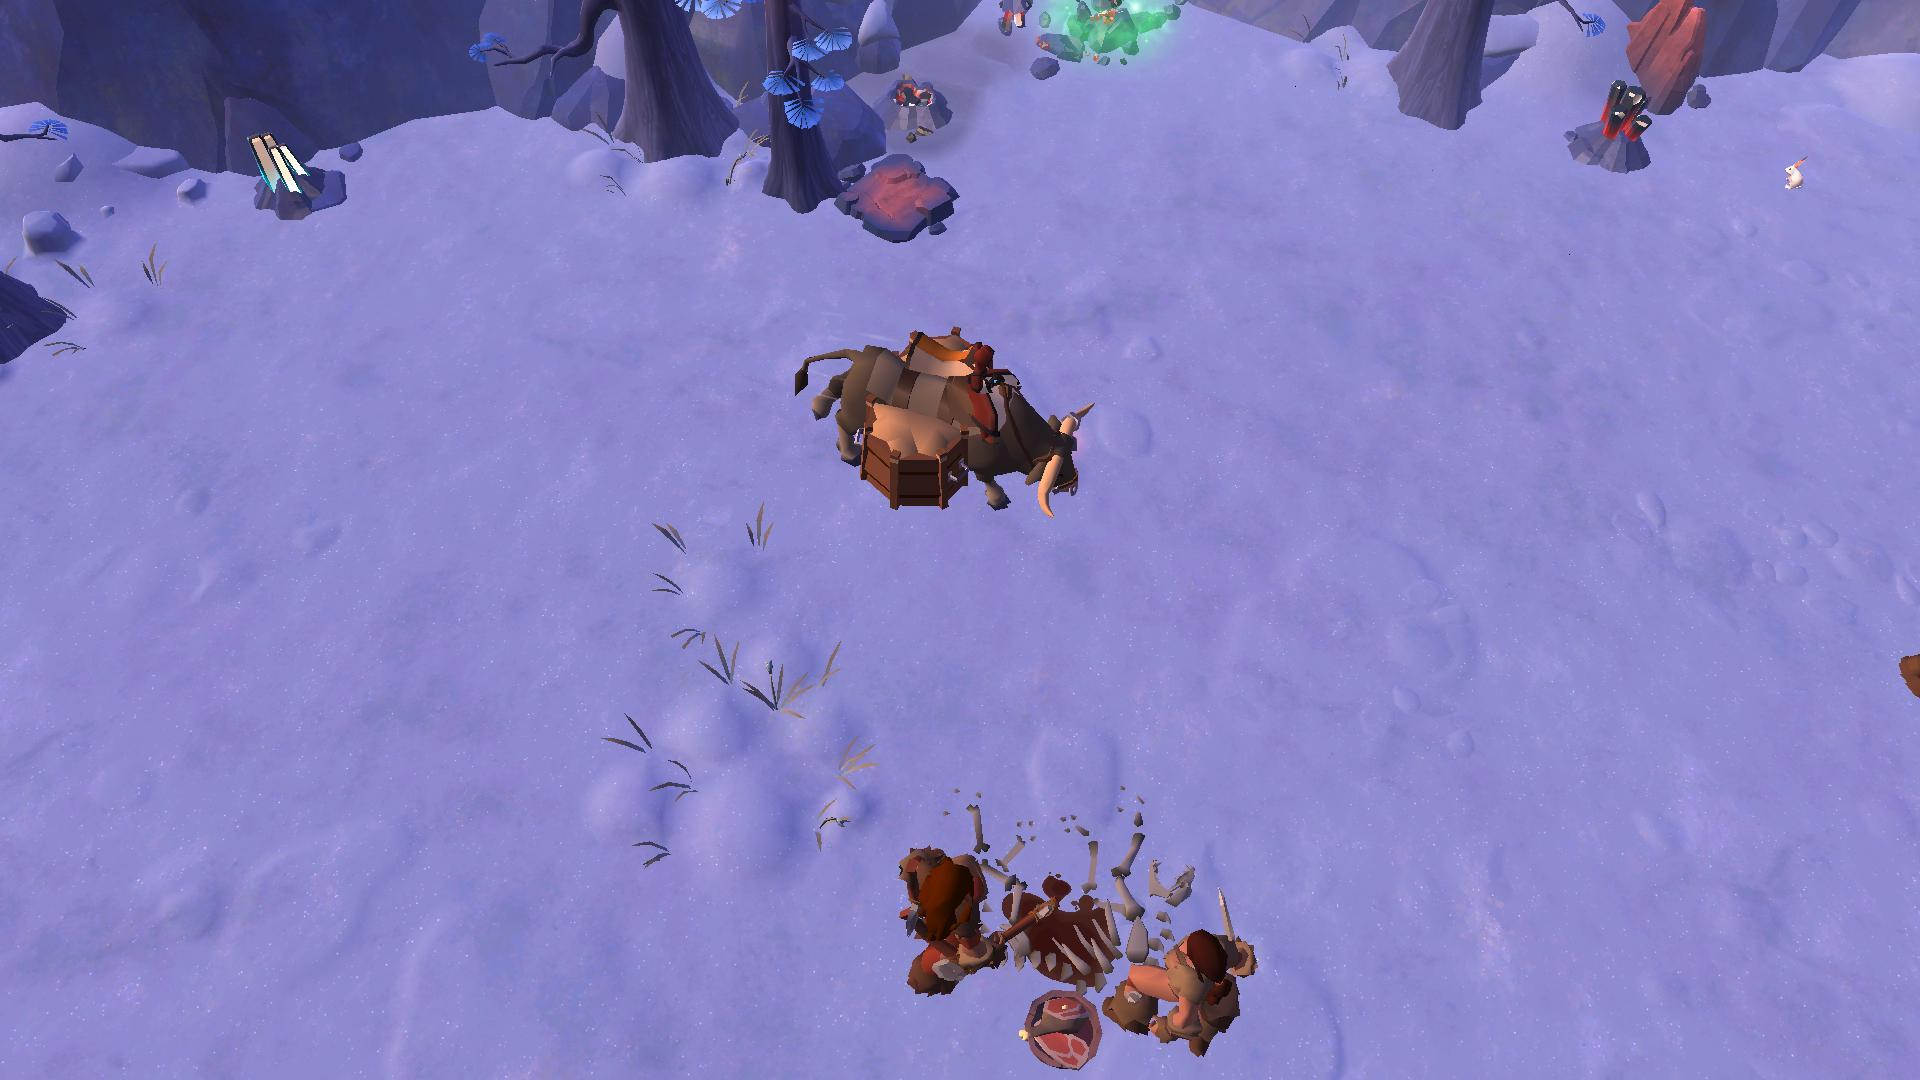enemy_factionKeeper: (1126, 918, 1251, 1058)
ore_t4: (251, 128, 318, 206)
ore_t5: (1596, 74, 1655, 145)
rock_t5: (1618, 0, 1706, 115)
